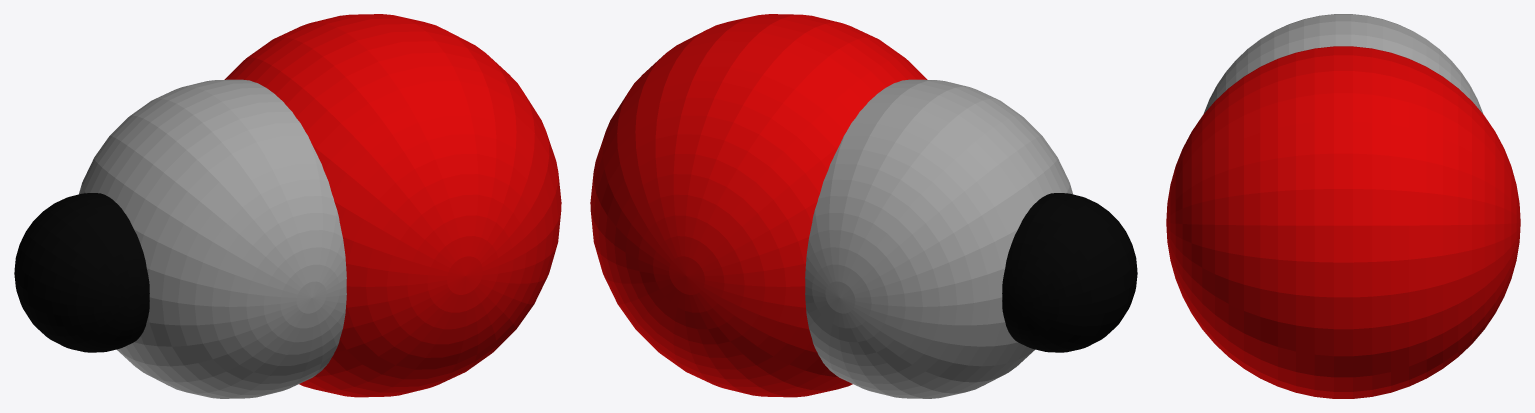
Rendered from Calcium Hydroxide.glb.
3 renders of one model, left to right at view 1: azimuth 30°, elevation 25°; view 2: azimuth 150°, elevation 25°; view 3: azimuth 270°, elevation 25°, orthographic. The views are drawn at different scales.
Parts seen in each view (by area): view 1: world; view 2: world; view 3: world.
Boxes of the visible parts, box(x1,y1,x2,y2) form: world: box(14, 14, 561, 398); world: box(590, 14, 1137, 398); world: box(1166, 14, 1520, 398).
Size of the model in its own units: 1.84 by 1.19 by 1.2.
